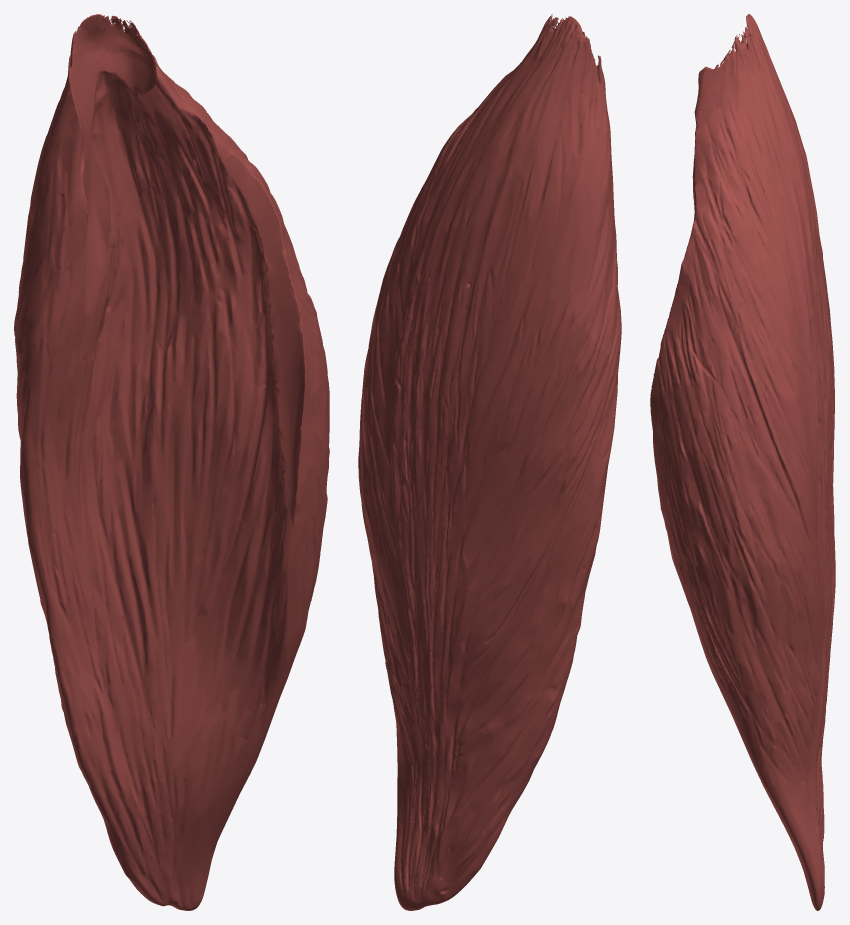
The model's file is FMA22558.glb.
3 renders of one model, left to right at view 1: azimuth 30°, elevation 25°; view 2: azimuth 150°, elevation 25°; view 3: azimuth 270°, elevation 25°, orthographic. The views are drawn at different scales.
Parts seen in each view (by area): view 1: FMA22558; view 2: FMA22558; view 3: FMA22558.
Part boxes in pixels (x1,y1,x2,y2): FMA22558: (14, 14, 329, 910); FMA22558: (358, 14, 621, 910); FMA22558: (650, 14, 835, 910).
Bounding box in the file's own units: 0.0825 × 0.2669 × 0.0536.
